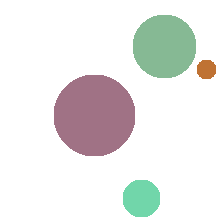circle: (54, 75, 134, 155), (133, 15, 195, 77), (123, 180, 159, 216), (197, 60, 215, 78)
